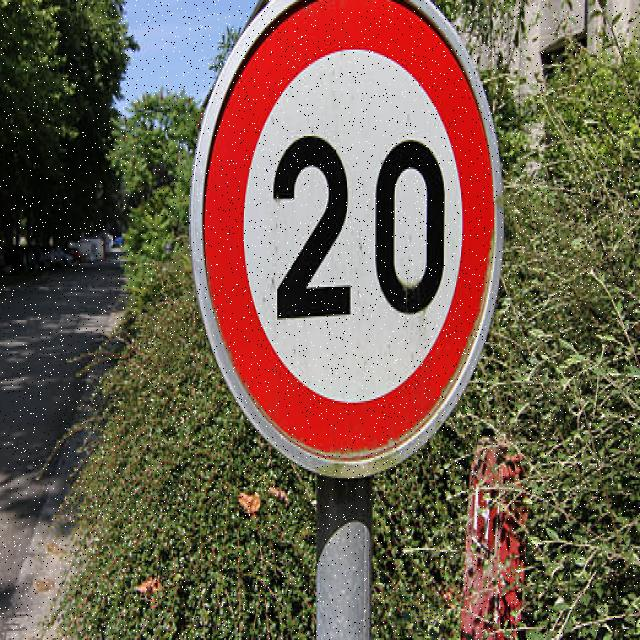speed_limit_20: (179, 0, 510, 493)
